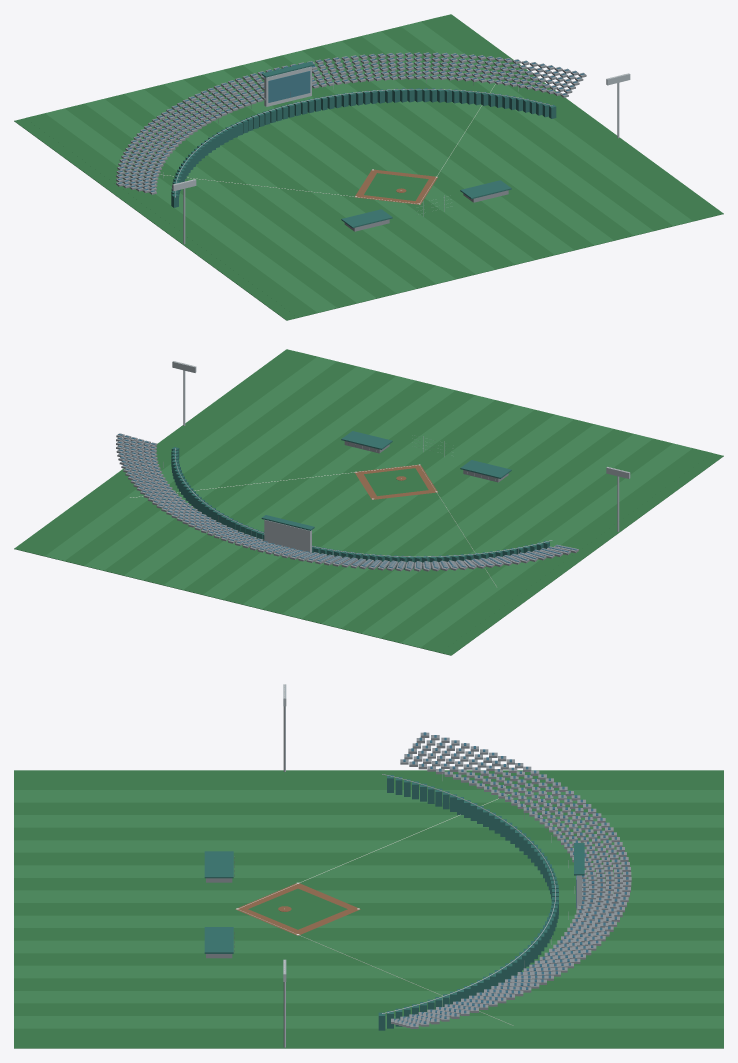
File: stadium_base.glb
The picture shows the model from 3 angles, top to bottom: view 1: azimuth 30°, elevation 25°; view 2: azimuth 150°, elevation 25°; view 3: azimuth 270°, elevation 25°; orthographic projection. The views are drawn at different scales.
Visible parts, largest first — view 1: main outfield grass, mowed grass stripe -10, mowed grass stripe -6, mowed grass stripe -5, mowed grass stripe -7, mowed grass stripe 5, mowed grass stripe -4, mowed grass stripe -9, mowed grass stripe 6, mowed grass stripe -8, mowed grass stripe 10, mowed grass stripe 7 (+16 smaller); view 2: main outfield grass, mowed grass stripe -10, mowed grass stripe -5, mowed grass stripe -6, mowed grass stripe 5, mowed grass stripe -4, mowed grass stripe -7, mowed grass stripe 6, mowed grass stripe 7, mowed grass stripe -9, mowed grass stripe 8, mowed grass stripe 9 (+15 smaller); view 3: main outfield grass, mowed grass stripe 10, mowed grass stripe 5, mowed grass stripe -6, mowed grass stripe 3, mowed grass stripe -4, mowed grass stripe 9, mowed grass stripe -5, mowed grass stripe 6, mowed grass stripe 4, mowed grass stripe 7, mowed grass stripe 8 (+14 smaller).
Boxes of the visible parts, box(x1,y1,x2,y2) form: main outfield grass: box(14, 14, 723, 320); mowed grass stripe -10: box(25, 113, 317, 317); mowed grass stripe -6: box(104, 94, 396, 298); mowed grass stripe -5: box(124, 89, 415, 293); mowed grass stripe -7: box(84, 99, 376, 302); mowed grass stripe 5: box(322, 41, 613, 245); mowed grass stripe -4: box(144, 84, 435, 288); mowed grass stripe -9: box(45, 108, 336, 312); mowed grass stripe 6: box(342, 36, 633, 240); mowed grass stripe -8: box(65, 103, 356, 307); mowed grass stripe 10: box(420, 17, 712, 220); mowed grass stripe 7: box(361, 31, 653, 235); main outfield grass: box(14, 349, 723, 655); mowed grass stripe -10: box(420, 448, 712, 652); mowed grass stripe -5: box(322, 424, 613, 628); mowed grass stripe -6: box(341, 429, 633, 633); mowed grass stripe 5: box(124, 376, 415, 580); mowed grass stripe -4: box(302, 419, 593, 623); mowed grass stripe -7: box(361, 434, 653, 637); mowed grass stripe 6: box(104, 371, 395, 575); mowed grass stripe 7: box(84, 366, 376, 570); mowed grass stripe -9: box(401, 443, 692, 647); mowed grass stripe 8: box(65, 361, 356, 565); mowed grass stripe 9: box(45, 356, 336, 560); main outfield grass: box(14, 770, 723, 1048); mowed grass stripe 10: box(14, 1028, 723, 1040); mowed grass stripe 5: box(14, 965, 723, 978); mowed grass stripe -6: box(14, 827, 723, 840); mowed grass stripe 3: box(14, 940, 723, 953); mowed grass stripe -4: box(14, 852, 723, 865); mowed grass stripe 9: box(14, 1016, 723, 1028); mowed grass stripe -5: box(14, 840, 723, 852); mowed grass stripe 6: box(14, 978, 723, 990); mowed grass stripe 4: box(14, 953, 723, 965); mowed grass stripe 7: box(14, 991, 723, 1003); mowed grass stripe 8: box(14, 1003, 723, 1015).
Bounding box in the file's own units: 265 × 33.95 × 270.
